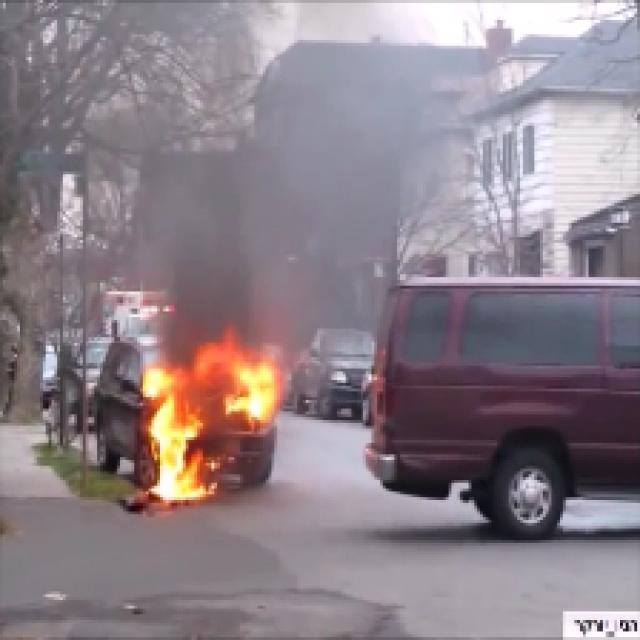fire: (138, 358, 282, 509)
smoke: (124, 24, 398, 317)
